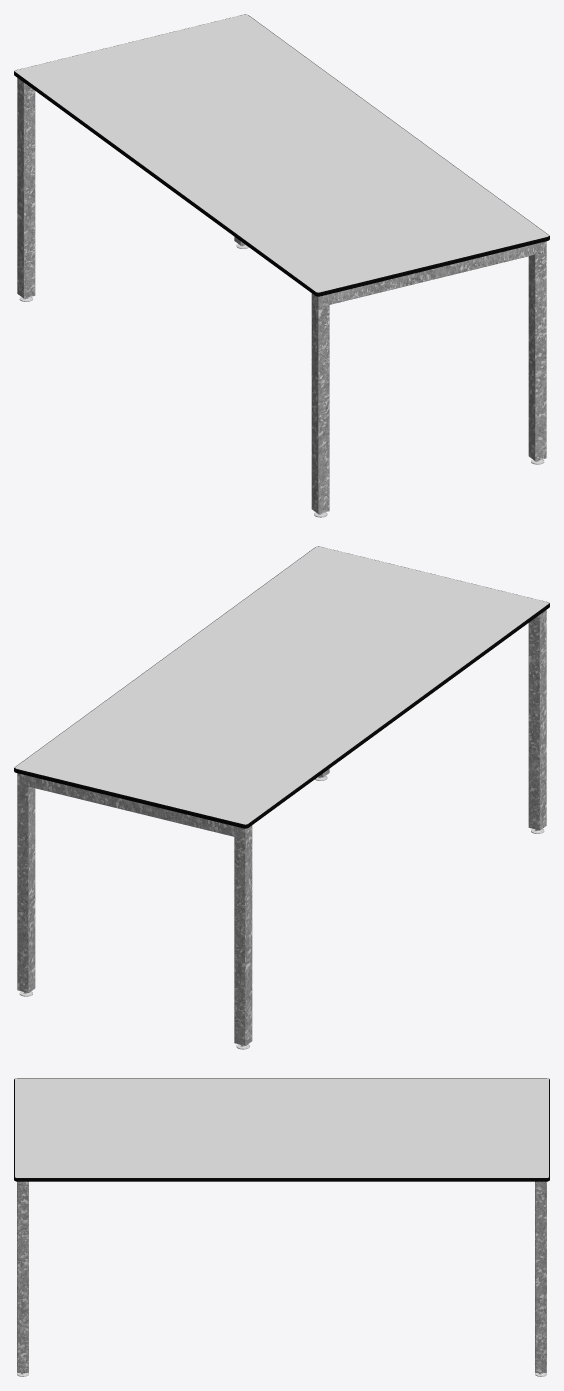
File: lineapro-outdoor-180.glb
3 renders of one model, top to bottom at view 1: azimuth 30°, elevation 25°; view 2: azimuth 150°, elevation 25°; view 3: azimuth 270°, elevation 25°, orthographic. The views are drawn at different scales.
Visible parts, largest first — view 1: Tischplatte, Gestell, HPL-Kante; view 2: Tischplatte, Gestell, HPL-Kante; view 3: Tischplatte, Gestell, HPL-Kante.
Boxes of the visible parts, <box> form: Tischplatte: <box>15,14,548,292</box>; Gestell: <box>17,78,546,513</box>; HPL-Kante: <box>14,14,549,296</box>; Tischplatte: <box>15,546,548,824</box>; Gestell: <box>17,610,546,1045</box>; HPL-Kante: <box>14,546,549,828</box>; Tischplatte: <box>15,1078,548,1177</box>; Gestell: <box>17,1181,546,1372</box>; HPL-Kante: <box>14,1078,549,1181</box>.
Bounding box in the file's own units: 0.8 × 0.74 × 1.8.
Materials: 3 (1 with a texture image).
